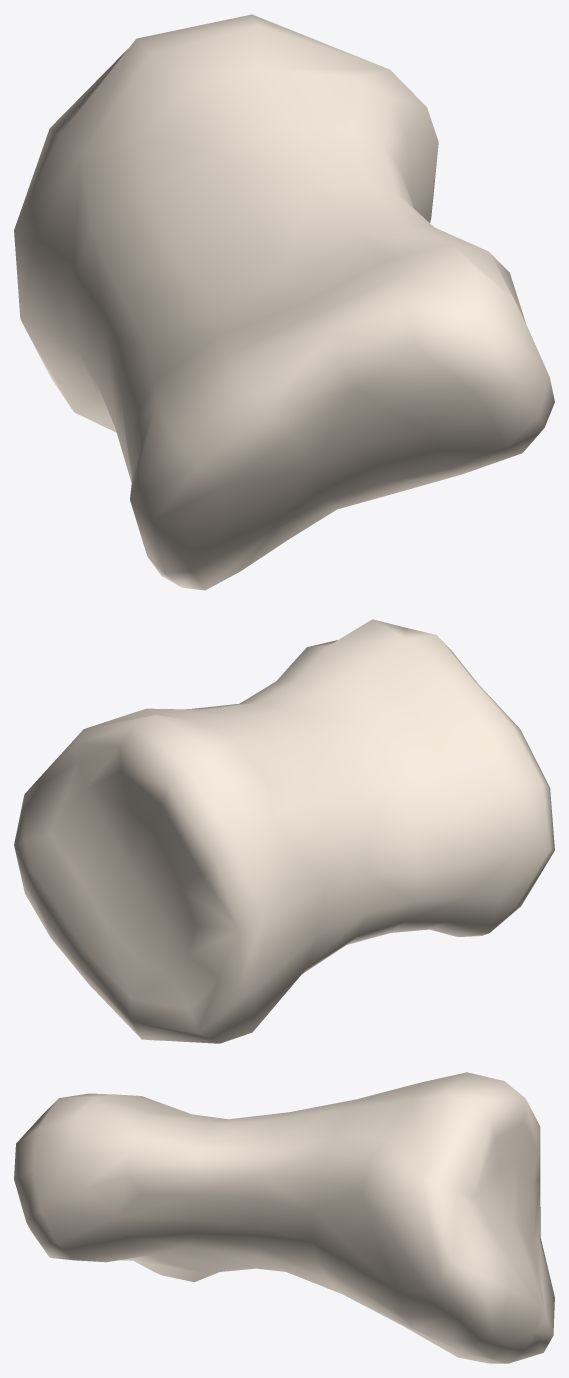
File: right_toe_4_middle.glb
3 views of the same model, one above another, from view 1: azimuth 30°, elevation 25°; view 2: azimuth 150°, elevation 25°; view 3: azimuth 270°, elevation 25° (orthographic). The views are drawn at different scales.
Visible parts, largest first — view 1: Middle phalanx of fourth finger of foot.r; view 2: Middle phalanx of fourth finger of foot.r; view 3: Middle phalanx of fourth finger of foot.r.
Boxes of the visible parts, <box> form: Middle phalanx of fourth finger of foot.r: <box>14,14,554,590</box>; Middle phalanx of fourth finger of foot.r: <box>14,619,554,1043</box>; Middle phalanx of fourth finger of foot.r: <box>14,1072,554,1363</box>.
Bounding box in the file's own units: 0.0108 × 0.00793 × 0.0137.
